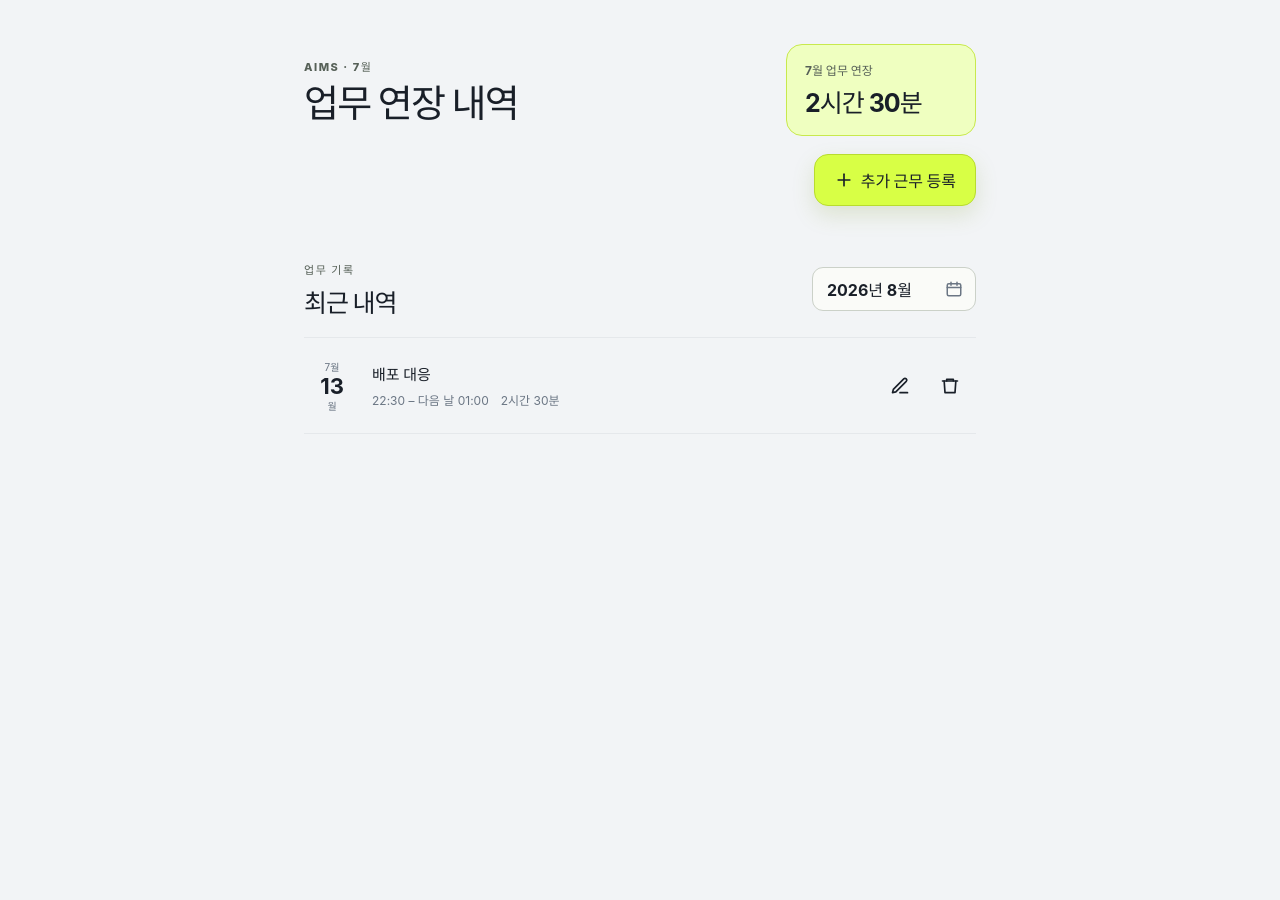
Test: OvertimePage › opens editing in the same dialog with a named icon action
This screenshot has width=1280, height=900.
What coordinates should you click on to do the following:
click the button named "배포 대응 내역 수정"
I would click on:
 (900, 386)
Its box is x1=878 y1=364 x2=922 y2=408.
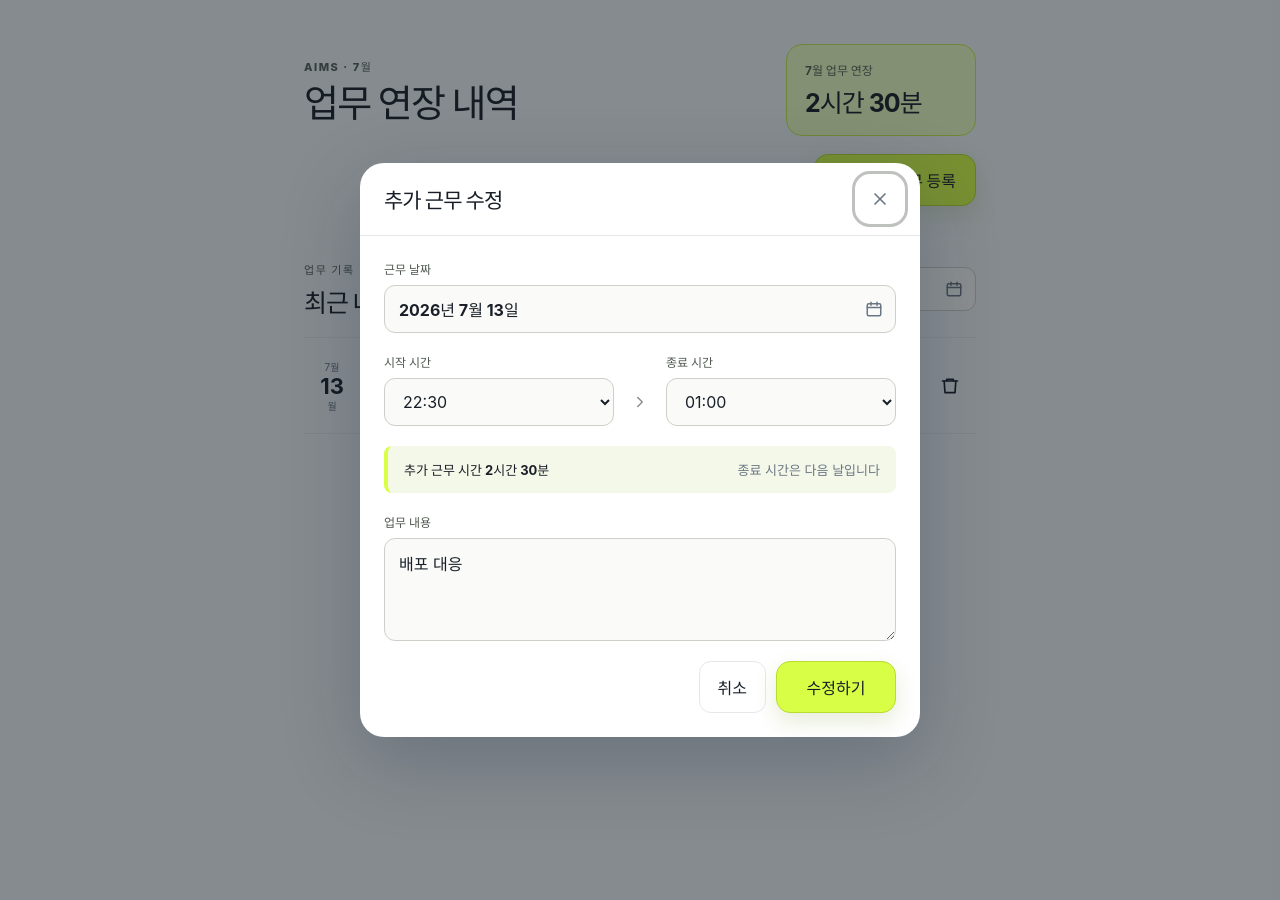
expect the dialog "추가 근무 수정" is shown: met, box x1=360 y1=163 x2=920 y2=737
expect the text box labelled "업무 내용" holds "배포 대응": met, box x1=384 y1=538 x2=896 y2=641
